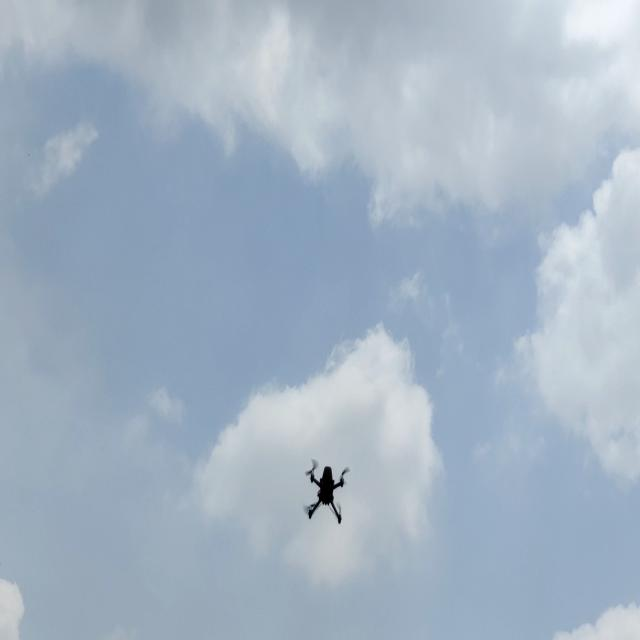drone: (305, 444, 347, 534)
